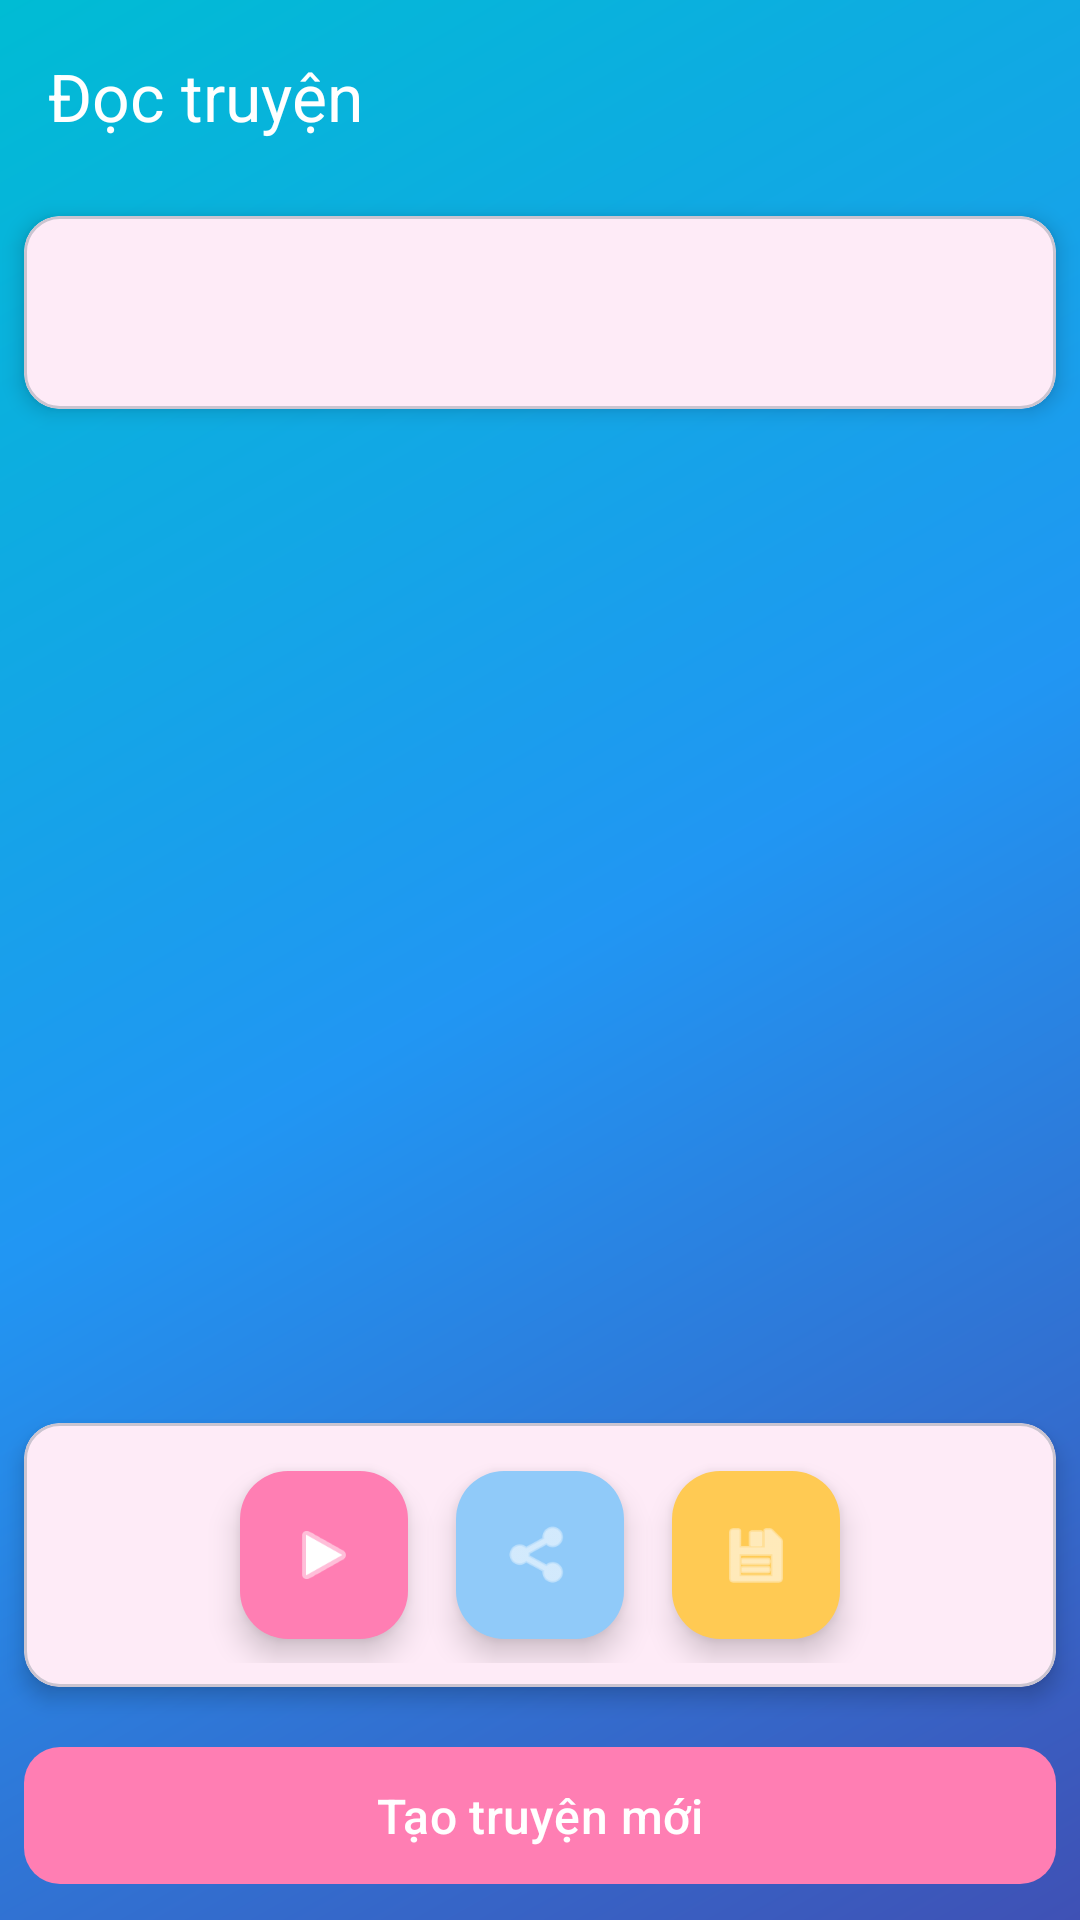

Point at icon controls on the screen. Image size 1080 x 1920, points as [x,y].
Chia sẻ truyện: [540,1555]
Lưu truyện: [756,1555]
Đọc truyện: [324,1555]
